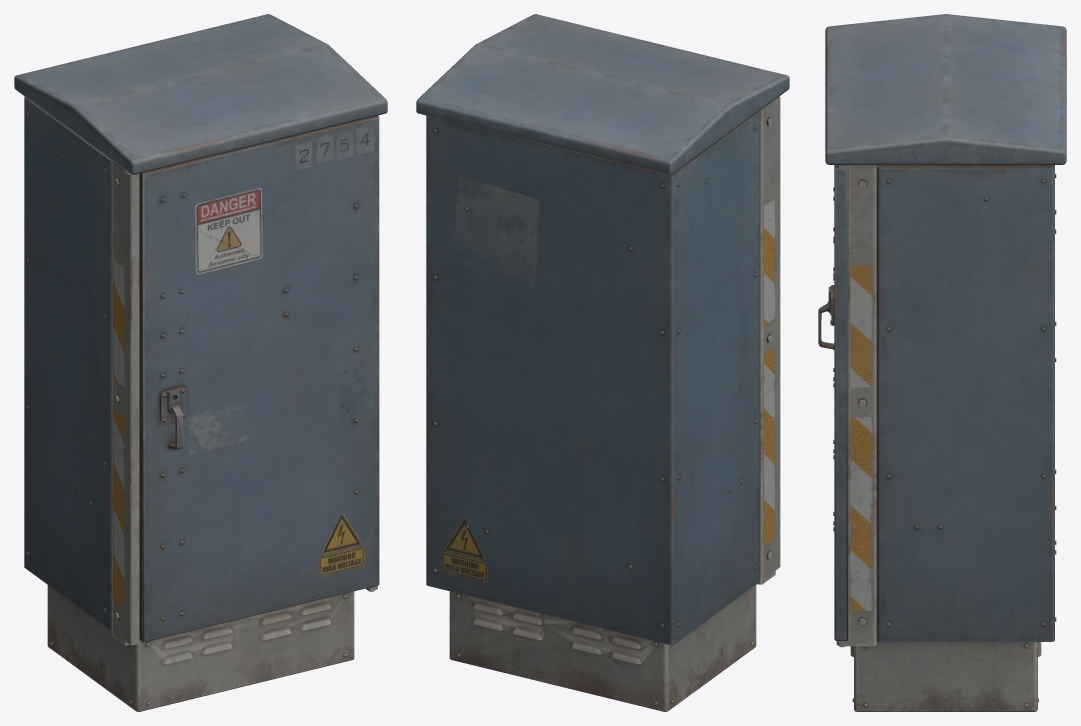
File: utility_box_01.glb
3 views of the same model, side by side, from view 1: azimuth 30°, elevation 25°; view 2: azimuth 150°, elevation 25°; view 3: azimuth 270°, elevation 25° (orthographic).
Parts seen in each view (by area): view 1: utility_box_01_box; view 2: utility_box_01_box; view 3: utility_box_01_box.
Boxes of the visible parts, x1,y1,x2,y2 form: utility_box_01_box: (14, 14, 387, 711); utility_box_01_box: (416, 14, 789, 711); utility_box_01_box: (818, 14, 1066, 711).
Bounding box in the file's own units: 0.52 × 1.12 × 0.4319.
1 material, 1 textured.
